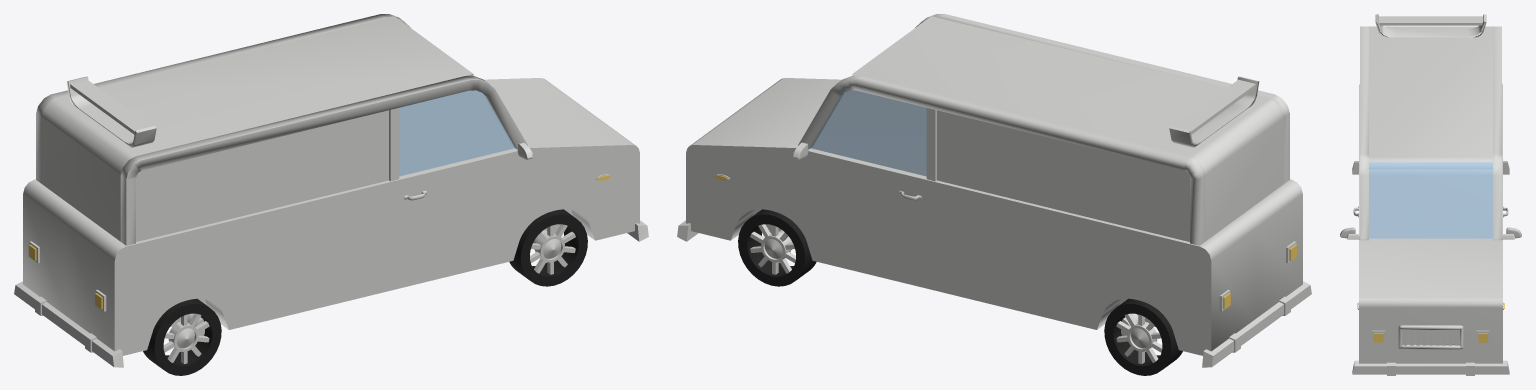
Rendered from van.glb.
3 renders of one model, left to right at view 1: azimuth 30°, elevation 25°; view 2: azimuth 150°, elevation 25°; view 3: azimuth 270°, elevation 25°, orthographic. The views are drawn at different scales.
Visible parts, largest first — view 1: Van, Roof, Wall, Frame (×3), Glass, Tire (×2), BackBumper, Spline, Cube, Rim (×2); view 2: Van, Roof, Wall, Frame (×3), Glass, Tire (×2), BackBumper, Spline, Cube, Rim (×2); view 3: Van, Roof, Glass, Frame (×3), FrontBumper, Spline, Cube, FrontLights (×2), BackBumper.
Part boxes in pixels (left/top/right/bottom): Van: left=23, top=78, right=639, bottom=355; Roof: left=41, top=16, right=473, bottom=241; Wall: left=136, top=110, right=388, bottom=241; Frame (×3): left=36, top=14, right=527, bottom=245; Glass: left=399, top=90, right=514, bottom=176; Tire (×2): left=143, top=209, right=587, bottom=375; BackBumper: left=14, top=281, right=123, bottom=367; Spline: left=66, top=76, right=156, bottom=147; Cube: left=70, top=79, right=150, bottom=134; Rim (×2): left=168, top=232, right=564, bottom=351; Van: left=686, top=78, right=1302, bottom=355; Roof: left=852, top=16, right=1284, bottom=241; Wall: left=937, top=110, right=1189, bottom=241; Frame (×3): left=798, top=14, right=1289, bottom=245; Glass: left=811, top=90, right=926, bottom=176; Tire (×2): left=738, top=209, right=1182, bottom=375; BackBumper: left=1202, top=281, right=1311, bottom=367; Spline: left=1169, top=76, right=1259, bottom=147; Cube: left=1175, top=79, right=1255, bottom=134; Rim (×2): left=761, top=232, right=1157, bottom=351; Van: left=1359, top=84, right=1502, bottom=363; Roof: left=1369, top=26, right=1492, bottom=168; Glass: left=1369, top=162, right=1492, bottom=238; Frame (×3): left=1360, top=26, right=1501, bottom=349; FrontBumper: left=1352, top=360, right=1509, bottom=374; Spline: left=1375, top=14, right=1486, bottom=37; Cube: left=1379, top=16, right=1482, bottom=25; FrontLights (×2): left=1372, top=330, right=1489, bottom=343; BackBumper: left=1352, top=161, right=1509, bottom=174.
Size of the model in its own units: 5.5 by 2.4 by 2.05.
